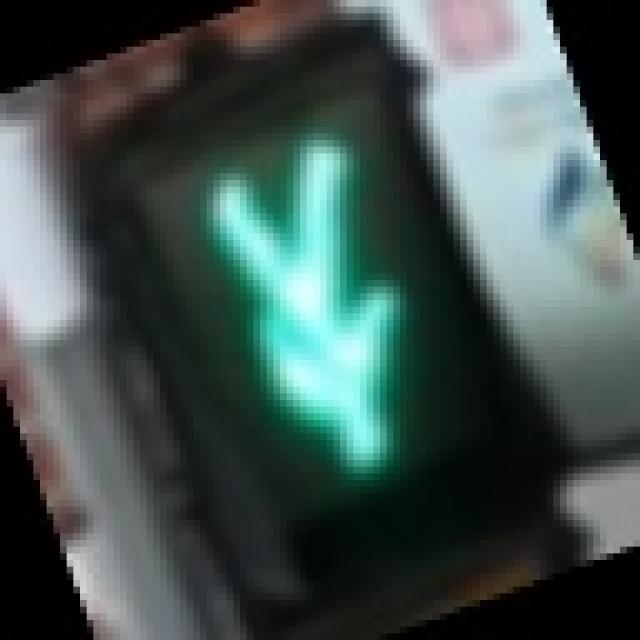green-light: (114, 68, 508, 555)
